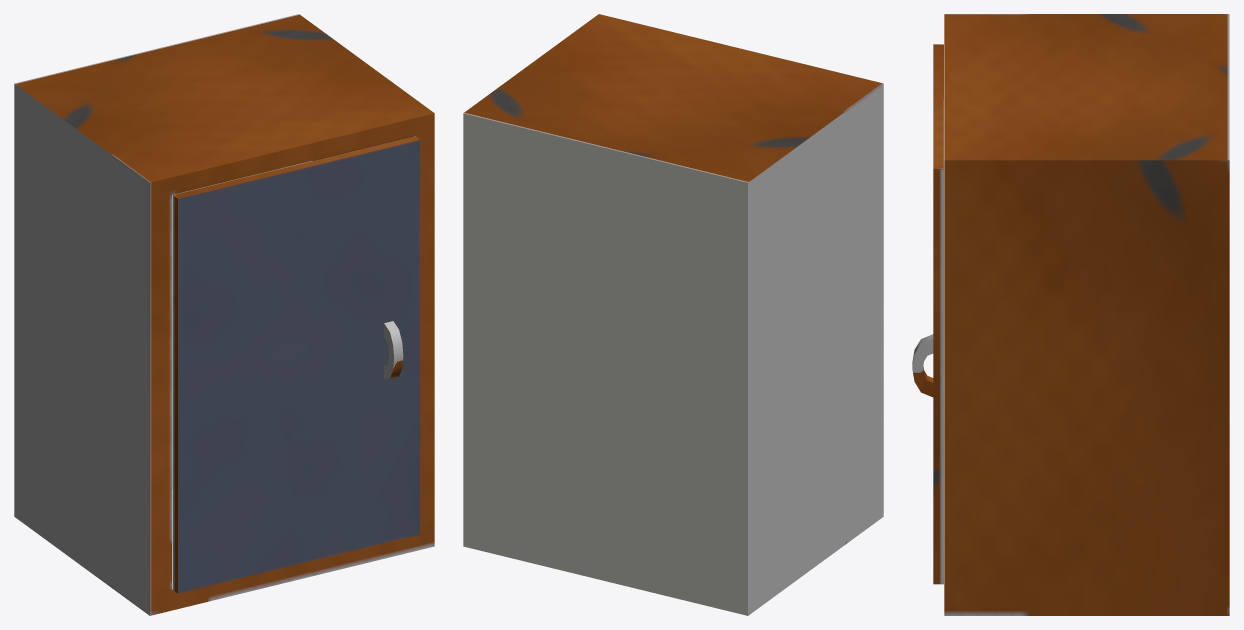
3 views of the same model, side by side, from view 1: azimuth 30°, elevation 25°; view 2: azimuth 150°, elevation 25°; view 3: azimuth 270°, elevation 25° (orthographic). The views are drawn at different scales.
Visible parts, largest first — view 1: pCube39, almari, handle; view 2: pCube39; view 3: pCube39, almari, handle.
Boxes of the visible parts, x1=… form: pCube39: x1=14, y1=14, x2=434, y2=615; almari: x1=173, y1=136, x2=420, y2=593; handle: x1=384, y1=321, x2=403, y2=378; pCube39: x1=463, y1=14, x2=883, y2=615; pCube39: x1=944, y1=14, x2=1229, y2=615; almari: x1=933, y1=44, x2=943, y2=584; handle: x1=912, y1=334, x2=933, y2=397.
Bounding box in the file's own units: 81.53 × 118 × 74.81.
